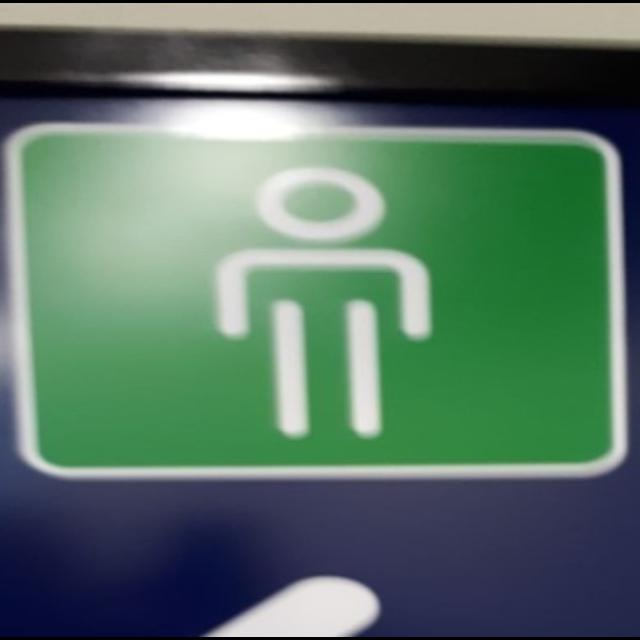mens_restroom: (9, 125, 624, 477)
